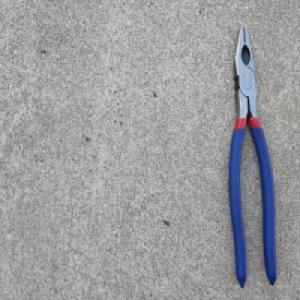Pliers: (226, 22, 278, 291)
